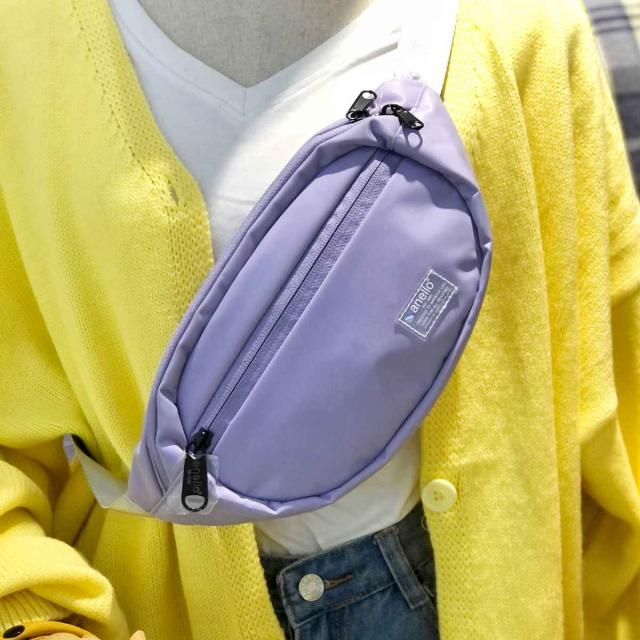Handbag: (107, 66, 508, 524)
